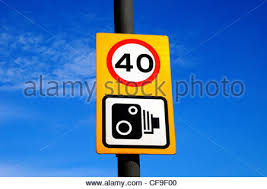Speed_limit_40km: (106, 38, 162, 86)
